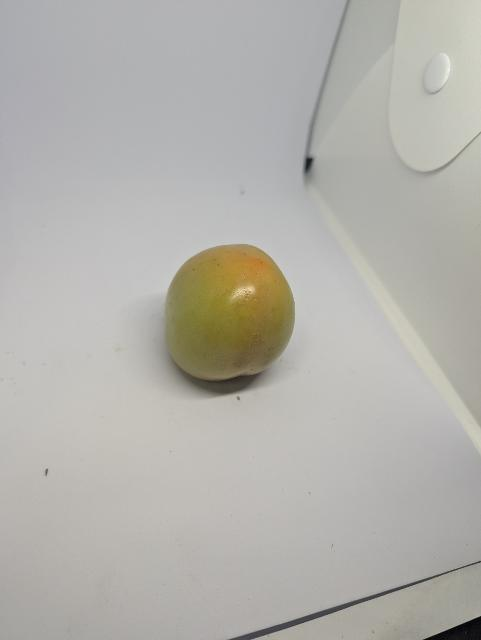breaker: (160, 242, 300, 385)
